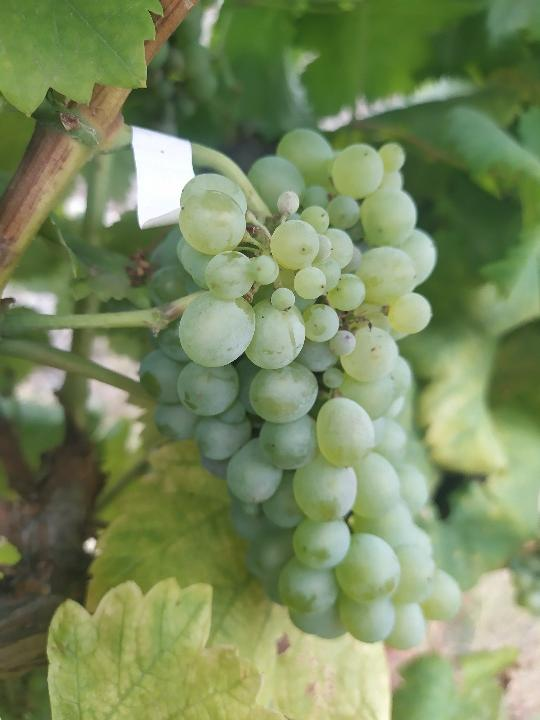grape: (136, 125, 464, 654)
